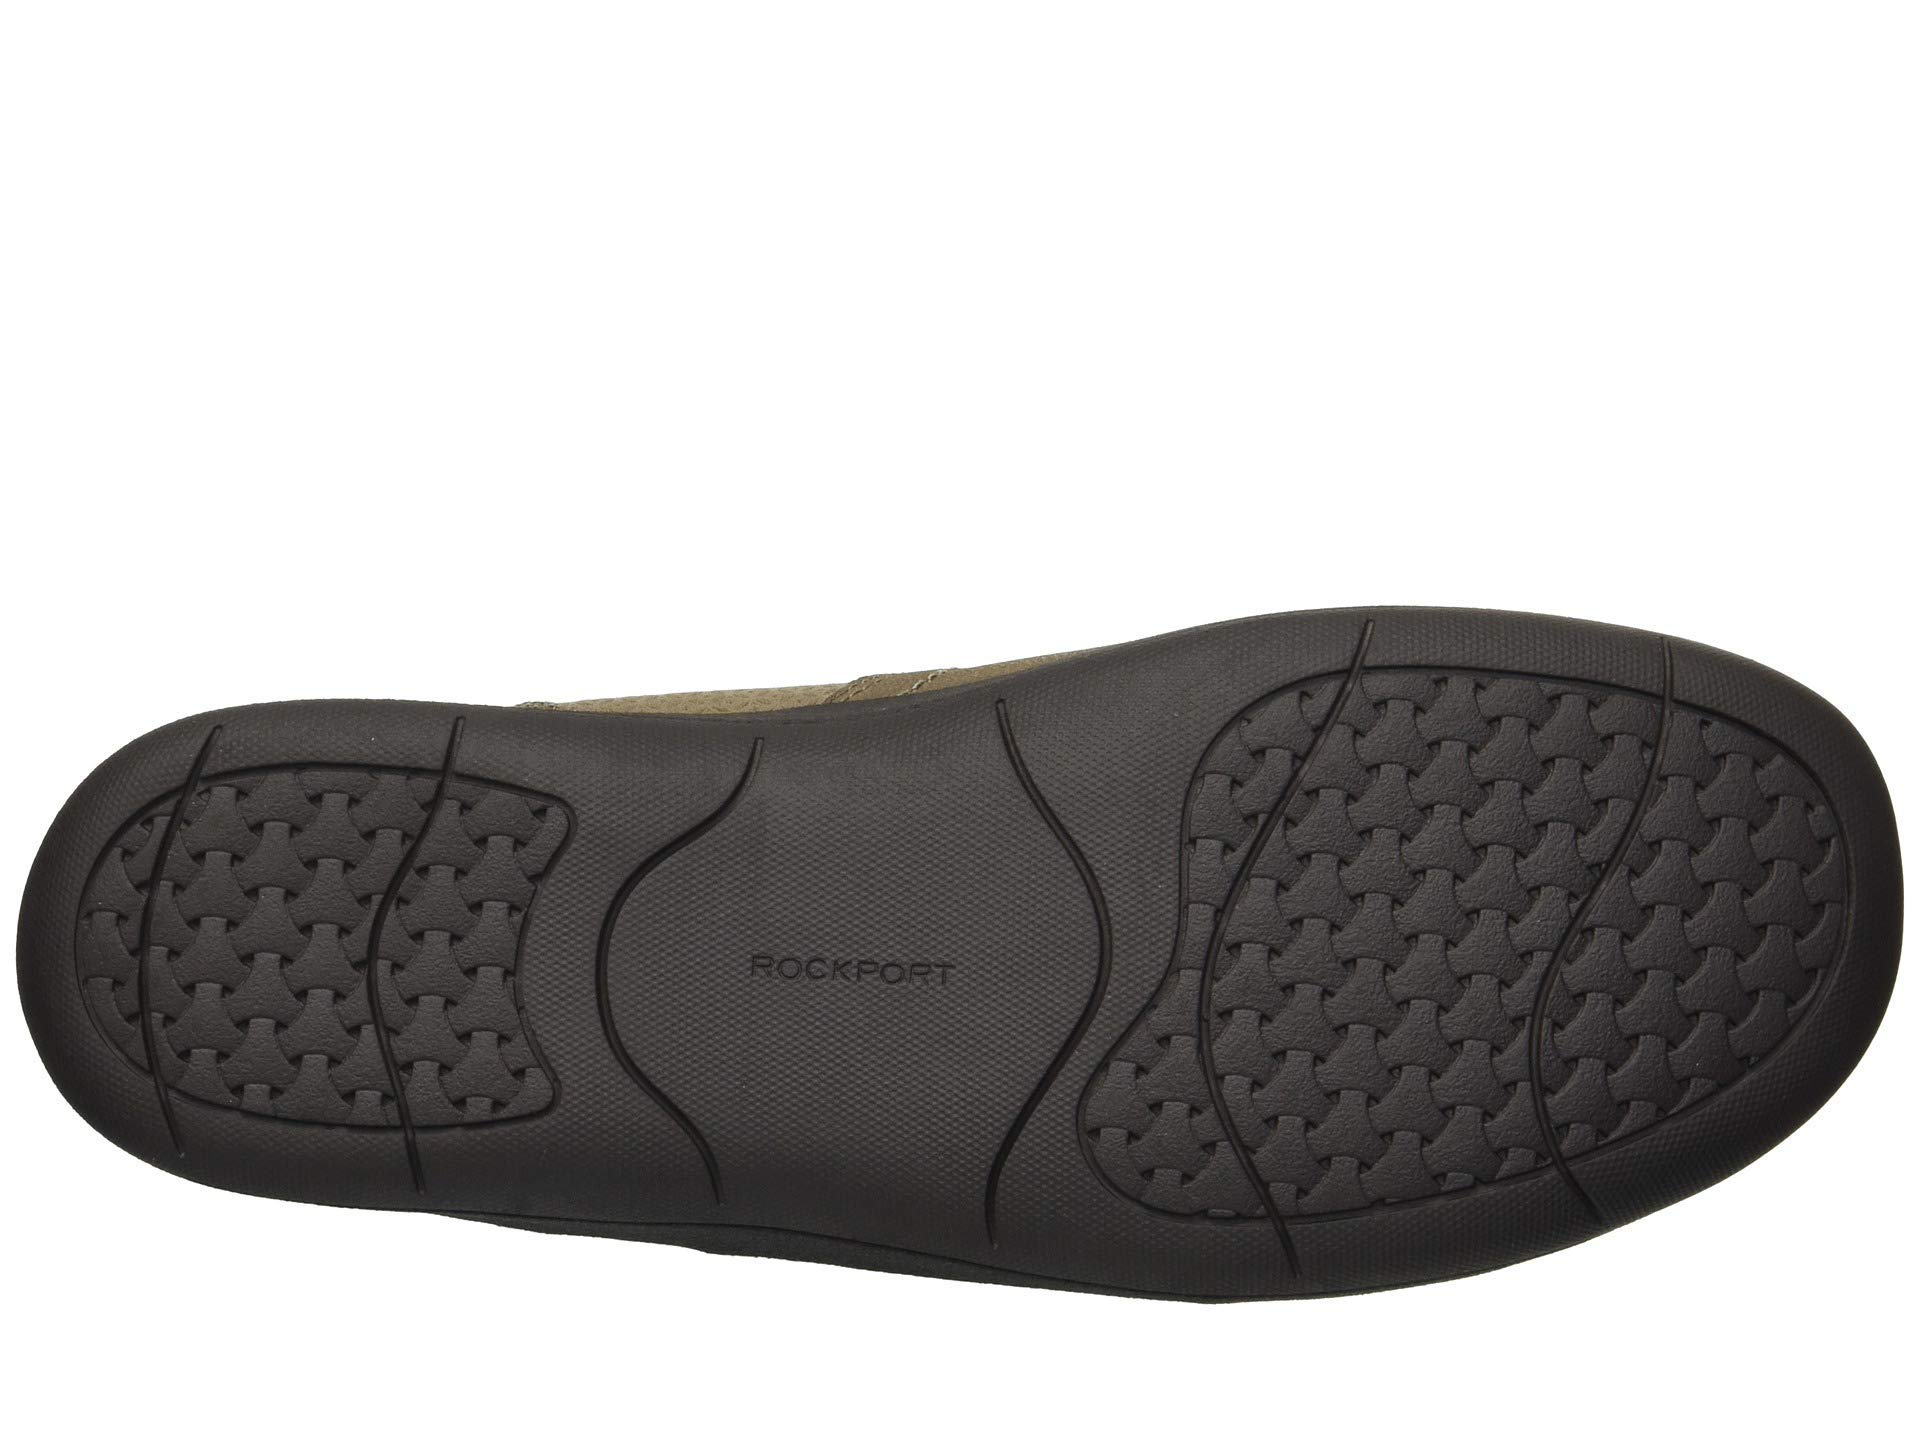chevron: (1116, 670, 1643, 1218), (122, 768, 517, 1130)
star: (1116, 670, 1643, 1218), (122, 768, 517, 1130)
text: (701, 886, 972, 1033)
